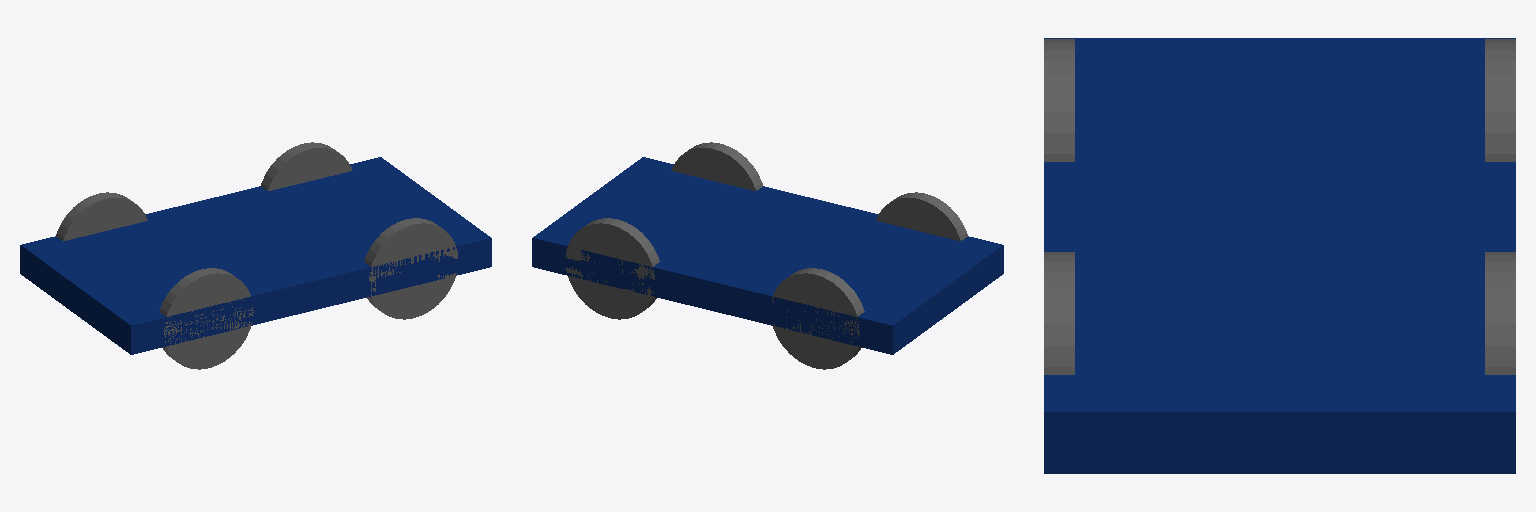
The robot description file, URDF, robot "vehicle":
<?xml version="1.0" ?>
<!-- =================================================================================== -->
<!-- |    This document was autogenerated by xacro from robot.xacro                    | -->
<!-- |    EDITING THIS FILE BY HAND IS NOT RECOMMENDED                                 | -->
<!-- =================================================================================== -->
<robot name="vehicle" xmlns:xacro="http://www.ros.org/wiki/xacro">
  <!-- Define algunos colores para ser usados en rviz y Gazebo -->
  <material name="grey">
    <color rgba="0.42 0.42 0.42 1"/>
  </material>
  <material name="dark_grey">
    <color rgba="0.22 0.22 0.22 1"/>
  </material>
  <material name="black">
    <color rgba="0.12 0.12 0.12 1"/>
  </material>
  <material name="blue">
    <color rgba="0.08 0.22 0.48 1"/>
  </material>
  <!-- Controladores ROS para Gazebo -->
  <gazebo>
    <plugin filename="libgazebo_ros_control.so" name="gazebo_ros_control">
      <robotNamespace>/vehicle</robotNamespace>
      <robotSimType>gazebo_ros_control/DefaultRobotHWSim</robotSimType>
      <legacyModeNS>true</legacyModeNS>
    </plugin>
  </gazebo>
  <!-- Define algunos colores para ser usados en rviz y Gazebo -->
  <material name="grey">
    <color rgba="0.42 0.42 0.42 1"/>
  </material>
  <material name="dark_grey">
    <color rgba="0.22 0.22 0.22 1"/>
  </material>
  <material name="black">
    <color rgba="0.12 0.12 0.12 1"/>
  </material>
  <material name="blue">
    <color rgba="0.08 0.22 0.48 1"/>
  </material>
  <!-- Dummy -->
  <link name="dummy_link"/>
  <!-- Chassis -->
  <link name="base_link">
    <inertial>
      <origin rpy="0 0 0" xyz="0 0 0"/>
      <mass value="130"/>
      <inertia ixx="15" ixy="0" ixz="0" iyy="52" iyz="0" izz="66"/>
    </inertial>
    <visual>
      <origin rpy="0 0 0" xyz="0 0 0"/>
      <geometry>
        <box size="2.186 1.162 0.17"/>
      </geometry>
      <material name="blue"/>
    </visual>
    <collision>
      <origin rpy="0 0 0" xyz="0 0 0"/>
      <geometry>
        <box size="2.186 1.162 0.17"/>
      </geometry>
    </collision>
  </link>
  <gazebo reference="base_link">
    <kp value="1000000"/>
    <kd value="1"/>
    <mu1 value="10"/>
    <mu2 value="10"/>
    <visual>
      <material>
        <ambient>0.00 0.16 0.42 1</ambient>
        <diffuse>0.04 0.20 0.46 1</diffuse>
        <specular>0.08 0.24 0.50 1</specular>
      </material>
    </visual>
  </gazebo>
  <joint name="dummy_joint" type="fixed">
    <parent link="dummy_link"/>
    <child link="base_link"/>
  </joint>
  <link name="front_left_wheel_link">
    <inertial>
      <origin rpy="0 0 0" xyz="0 0 0"/>
      <mass value="10"/>
      <inertia ixx="0.2" ixy="0" ixz="0" iyy="0.35" iyz="0" izz="0.2"/>
    </inertial>
    <visual>
      <origin rpy="1.57079632679 0 0" xyz="0 0 0"/>
      <geometry>
        <cylinder length="0.076" radius="0.272"/>
      </geometry>
      <material name="grey"/>
    </visual>
    <collision>
      <origin rpy="1.57079632679 0 0" xyz="0 0 0"/>
      <geometry>
        <cylinder length="0.076" radius="0.272"/>
      </geometry>
    </collision>
  </link>
  <gazebo reference="front_left_wheel_link">
    <kp value="1000000"/>
    <kd value="1"/>
    <mu1 value="10"/>
    <mu2 value="10"/>
    <visual>
      <material>
        <ambient>0.38 0.38 0.38 1</ambient>
        <diffuse>0.42 0.42 0.42 1</diffuse>
        <specular>0.46 0.46 0.46 1</specular>
      </material>
    </visual>
  </gazebo>
  <joint name="front_left_wheel_joint" type="continuous">
    <parent link="base_link"/>
    <child link="front_left_wheel_link"/>
    <origin rpy="0 0 0" xyz="0.621 0.543 0"/>
    <axis xyz="0 1 0"/>
  </joint>
  <transmission name="tran1">
    <type>transmission_interface/SimpleTransmission</type>
    <joint name="front_left_wheel_joint">
      <hardwareInterface>hardware_interface/EffortJointInterface</hardwareInterface>
    </joint>
    <actuator name="motor1">
      <hardwareInterface>hardware_interface/EffortJointInterface</hardwareInterface>
      <mechanicalReduction>1</mechanicalReduction>
    </actuator>
  </transmission>
  <link name="front_right_wheel_link">
    <inertial>
      <origin rpy="0 0 0" xyz="0 0 0"/>
      <mass value="10"/>
      <inertia ixx="0.2" ixy="0" ixz="0" iyy="0.35" iyz="0" izz="0.2"/>
    </inertial>
    <visual>
      <origin rpy="1.57079632679 0 0" xyz="0 0 0"/>
      <geometry>
        <cylinder length="0.076" radius="0.272"/>
      </geometry>
      <material name="grey"/>
    </visual>
    <collision>
      <origin rpy="1.57079632679 0 0" xyz="0 0 0"/>
      <geometry>
        <cylinder length="0.076" radius="0.272"/>
      </geometry>
    </collision>
  </link>
  <gazebo reference="front_right_wheel_link">
    <kp value="1000000"/>
    <kd value="1"/>
    <mu1 value="10"/>
    <mu2 value="10"/>
    <visual>
      <material>
        <ambient>0.38 0.38 0.38 1</ambient>
        <diffuse>0.42 0.42 0.42 1</diffuse>
        <specular>0.46 0.46 0.46 1</specular>
      </material>
    </visual>
  </gazebo>
  <joint name="front_right_wheel_joint" type="continuous">
    <parent link="base_link"/>
    <child link="front_right_wheel_link"/>
    <origin rpy="0 0 0" xyz="0.621 -0.543 0"/>
    <axis xyz="0 1 0"/>
  </joint>
  <transmission name="tran2">
    <type>transmission_interface/SimpleTransmission</type>
    <joint name="front_right_wheel_joint">
      <hardwareInterface>hardware_interface/EffortJointInterface</hardwareInterface>
    </joint>
    <actuator name="motor2">
      <hardwareInterface>hardware_interface/EffortJointInterface</hardwareInterface>
      <mechanicalReduction>1</mechanicalReduction>
    </actuator>
  </transmission>
  <link name="rear_left_wheel_link">
    <inertial>
      <origin rpy="0 0 0" xyz="0 0 0"/>
      <mass value="10"/>
      <inertia ixx="0.2" ixy="0" ixz="0" iyy="0.35" iyz="0" izz="0.2"/>
    </inertial>
    <visual>
      <origin rpy="1.57079632679 0 0" xyz="0 0 0"/>
      <geometry>
        <cylinder length="0.076" radius="0.272"/>
      </geometry>
      <material name="grey"/>
    </visual>
    <collision>
      <origin rpy="1.57079632679 0 0" xyz="0 0 0"/>
      <geometry>
        <cylinder length="0.076" radius="0.272"/>
      </geometry>
    </collision>
  </link>
  <gazebo reference="rear_left_wheel_link">
    <kp value="1000000"/>
    <kd value="1"/>
    <mu1 value="10"/>
    <mu2 value="10"/>
    <visual>
      <material>
        <ambient>0.38 0.38 0.38 1</ambient>
        <diffuse>0.42 0.42 0.42 1</diffuse>
        <specular>0.46 0.46 0.46 1</specular>
      </material>
    </visual>
  </gazebo>
  <joint name="rear_left_wheel_joint" type="continuous">
    <parent link="base_link"/>
    <child link="rear_left_wheel_link"/>
    <origin rpy="0 0 0" xyz="-0.621 0.543 0"/>
    <axis xyz="0 1 0"/>
  </joint>
  <transmission name="tran3">
    <type>transmission_interface/SimpleTransmission</type>
    <joint name="rear_left_wheel_joint">
      <hardwareInterface>hardware_interface/EffortJointInterface</hardwareInterface>
    </joint>
    <actuator name="motor3">
      <hardwareInterface>hardware_interface/EffortJointInterface</hardwareInterface>
      <mechanicalReduction>1</mechanicalReduction>
    </actuator>
  </transmission>
  <link name="rear_right_wheel_link">
    <inertial>
      <origin rpy="0 0 0" xyz="0 0 0"/>
      <mass value="10"/>
      <inertia ixx="0.2" ixy="0" ixz="0" iyy="0.35" iyz="0" izz="0.2"/>
    </inertial>
    <visual>
      <origin rpy="1.57079632679 0 0" xyz="0 0 0"/>
      <geometry>
        <cylinder length="0.076" radius="0.272"/>
      </geometry>
      <material name="grey"/>
    </visual>
    <collision>
      <origin rpy="1.57079632679 0 0" xyz="0 0 0"/>
      <geometry>
        <cylinder length="0.076" radius="0.272"/>
      </geometry>
    </collision>
  </link>
  <gazebo reference="rear_right_wheel_link">
    <kp value="1000000"/>
    <kd value="1"/>
    <mu1 value="10"/>
    <mu2 value="10"/>
    <visual>
      <material>
        <ambient>0.38 0.38 0.38 1</ambient>
        <diffuse>0.42 0.42 0.42 1</diffuse>
        <specular>0.46 0.46 0.46 1</specular>
      </material>
    </visual>
  </gazebo>
  <joint name="rear_right_wheel_joint" type="continuous">
    <parent link="base_link"/>
    <child link="rear_right_wheel_link"/>
    <origin rpy="0 0 0" xyz="-0.621 -0.543 0"/>
    <axis xyz="0 1 0"/>
  </joint>
  <transmission name="tran4">
    <type>transmission_interface/SimpleTransmission</type>
    <joint name="rear_right_wheel_joint">
      <hardwareInterface>hardware_interface/EffortJointInterface</hardwareInterface>
    </joint>
    <actuator name="motor4">
      <hardwareInterface>hardware_interface/EffortJointInterface</hardwareInterface>
      <mechanicalReduction>1</mechanicalReduction>
    </actuator>
  </transmission>
</robot>

--- Facts derived from the render (not from the file) ---
Views: 3 orthographic renders of the robot side by side, from view 1: azimuth 30°, elevation 25°; view 2: azimuth 150°, elevation 25°; view 3: azimuth 270°, elevation 25°.
Robot: vehicle — 6 links, 5 joints (4 continuous, 1 fixed); root link dummy_link; default pose: all joints at 0.
Links seen in each view (by area): view 1: base_link, front_right_wheel_link, rear_right_wheel_link, front_left_wheel_link, rear_left_wheel_link; view 2: base_link, front_left_wheel_link, rear_left_wheel_link, front_right_wheel_link, rear_right_wheel_link; view 3: base_link, front_left_wheel_link, front_right_wheel_link, rear_left_wheel_link, rear_right_wheel_link.
Link boxes in pixels (<box>): base_link: <box>20,157,491,354</box>; front_right_wheel_link: <box>364,218,457,319</box>; rear_right_wheel_link: <box>159,268,253,369</box>; front_left_wheel_link: <box>261,142,352,190</box>; rear_left_wheel_link: <box>56,192,147,240</box>; base_link: <box>532,157,1003,354</box>; front_left_wheel_link: <box>566,218,659,319</box>; rear_left_wheel_link: <box>772,268,864,369</box>; front_right_wheel_link: <box>671,142,762,190</box>; rear_right_wheel_link: <box>876,192,967,240</box>; base_link: <box>1044,38,1515,473</box>; front_left_wheel_link: <box>1485,252,1515,374</box>; front_right_wheel_link: <box>1044,252,1074,374</box>; rear_left_wheel_link: <box>1485,39,1515,161</box>; rear_right_wheel_link: <box>1044,39,1074,161</box>.
Size in the robot's own frame: 2.19 by 1.16 by 0.544 metres.
Geometry: primitives only (box / cylinder / sphere), no mesh files.